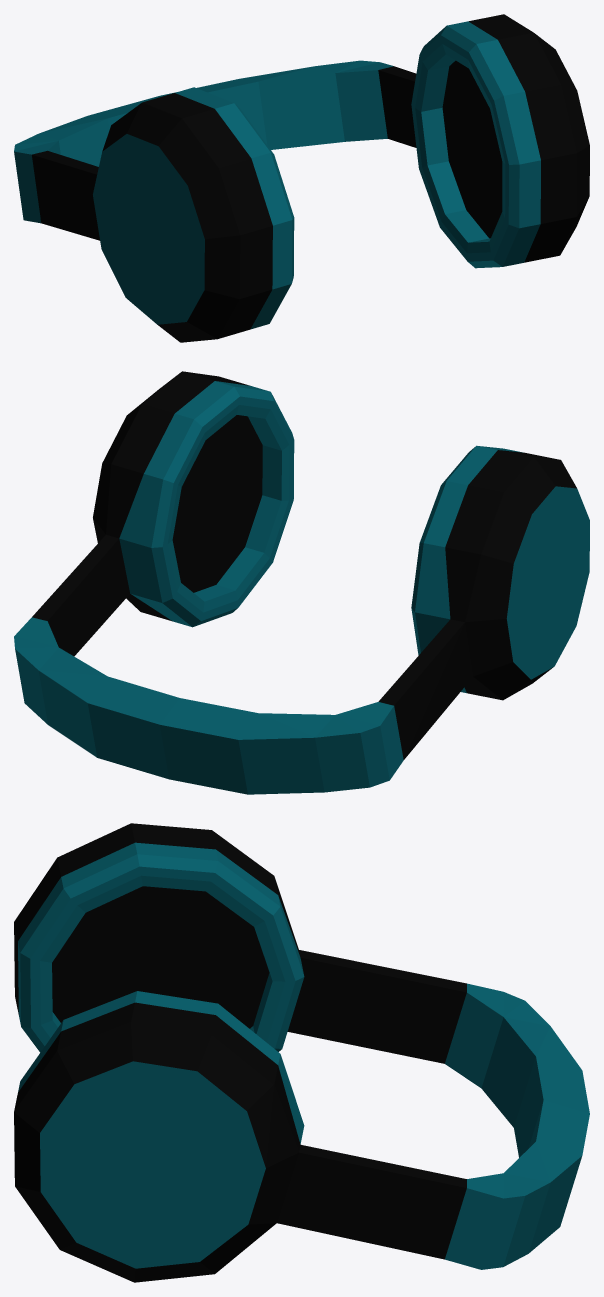
The model's file is headset.obj.
The picture shows the model from 3 angles, top to bottom: view 1: azimuth 30°, elevation 25°; view 2: azimuth 150°, elevation 25°; view 3: azimuth 270°, elevation 25°; orthographic projection. The views are drawn at different scales.
Parts seen in each view (by area): view 1: headset_Cylinder; view 2: headset_Cylinder; view 3: headset_Cylinder.
Part boxes in pixels (x1,y1,x2,y2): headset_Cylinder: [14, 14, 589, 342]; headset_Cylinder: [14, 371, 589, 794]; headset_Cylinder: [14, 823, 589, 1282].
Size of the model in its own units: 0.6835 by 0.3583 by 0.7118.
